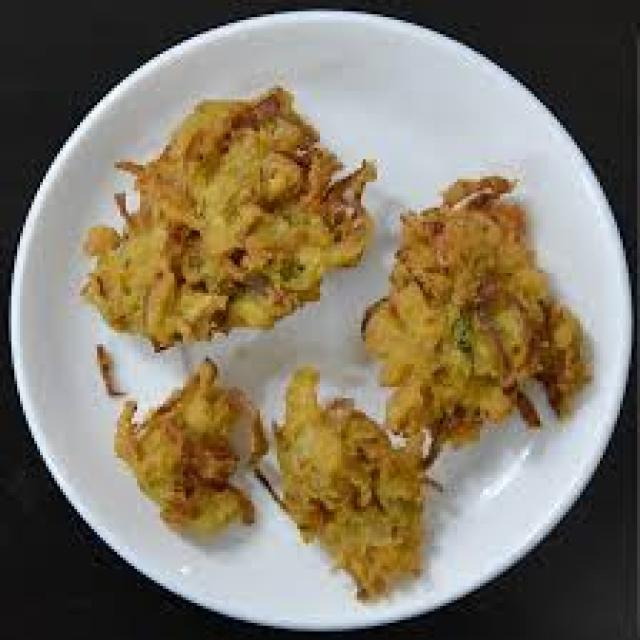BAJI: (87, 89, 370, 356), (354, 190, 578, 441), (270, 386, 432, 586), (120, 362, 256, 533)
